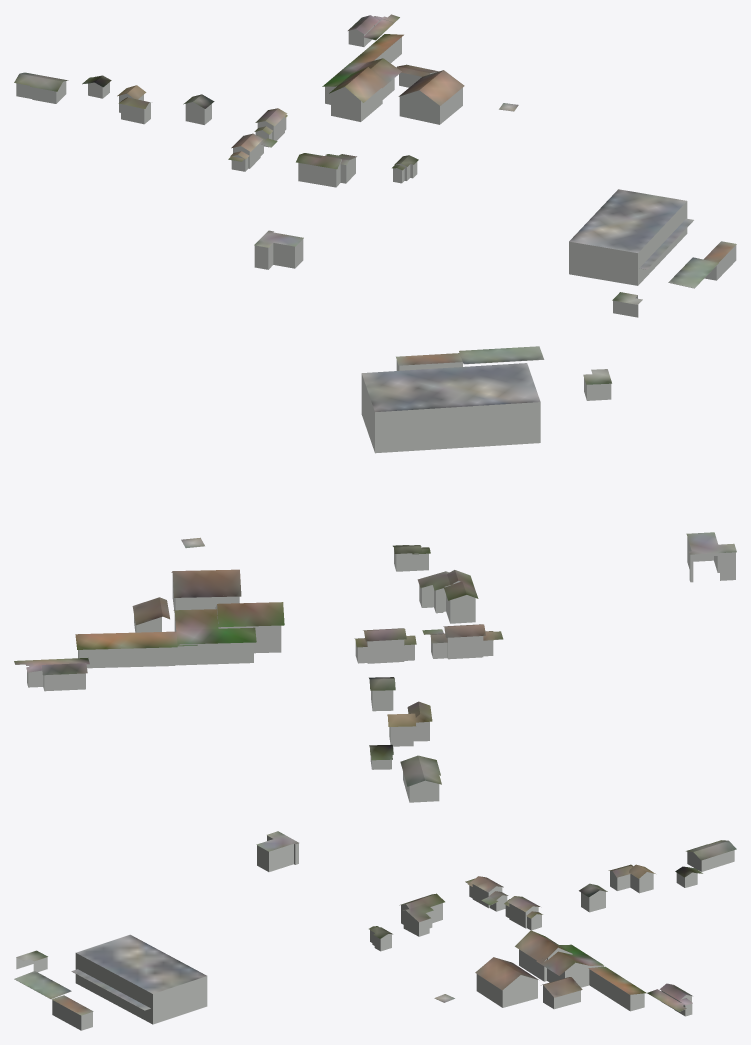
Rendered from LSGG_-3_-1.glb.
3 views of the same model, one above another, from view 1: azimuth 30°, elevation 25°; view 2: azimuth 150°, elevation 25°; view 3: azimuth 270°, elevation 25° (orthographic). The views are drawn at different scales.
Parts seen in each view (by area): view 1: building_717725b2d3c5e4ac, building_74d469cf2a305baa, building_49a3ff18097d739e, building_b7ea15f9a45516fc, building_7a1059159dca9144, building_c5e959ef76afe5a6; view 2: building_717725b2d3c5e4ac, building_49a3ff18097d739e, building_74d469cf2a305baa, building_b7ea15f9a45516fc, building_7a1059159dca9144, building_c5e959ef76afe5a6; view 3: building_717725b2d3c5e4ac, building_74d469cf2a305baa, building_b7ea15f9a45516fc, building_49a3ff18097d739e, building_7a1059159dca9144, building_c5e959ef76afe5a6.
Boxes of the visible parts, bbox=[...] form: building_717725b2d3c5e4ac: bbox=[254, 189, 736, 304]; building_74d469cf2a305baa: bbox=[254, 201, 736, 317]; building_49a3ff18097d739e: bbox=[14, 14, 438, 108]; building_b7ea15f9a45516fc: bbox=[16, 18, 436, 124]; building_7a1059159dca9144: bbox=[229, 88, 517, 187]; building_c5e959ef76afe5a6: bbox=[228, 70, 518, 170]; building_717725b2d3c5e4ac: bbox=[361, 346, 736, 554]; building_49a3ff18097d739e: bbox=[14, 597, 441, 786]; building_74d469cf2a305baa: bbox=[361, 359, 735, 582]; building_b7ea15f9a45516fc: bbox=[15, 605, 439, 802]; building_7a1059159dca9144: bbox=[172, 544, 502, 663]; building_c5e959ef76afe5a6: bbox=[171, 537, 503, 647]; building_717725b2d3c5e4ac: bbox=[14, 831, 298, 1015]; building_74d469cf2a305baa: bbox=[14, 835, 298, 1030]; building_b7ea15f9a45516fc: bbox=[519, 850, 734, 1016]; building_49a3ff18097d739e: bbox=[515, 840, 736, 1011]; building_7a1059159dca9144: bbox=[370, 882, 541, 1007]; building_c5e959ef76afe5a6: bbox=[369, 876, 542, 1002].
Size of the model in its own units: 174 by 15.05 by 308.
Materials: 2 (1 with a texture image).
